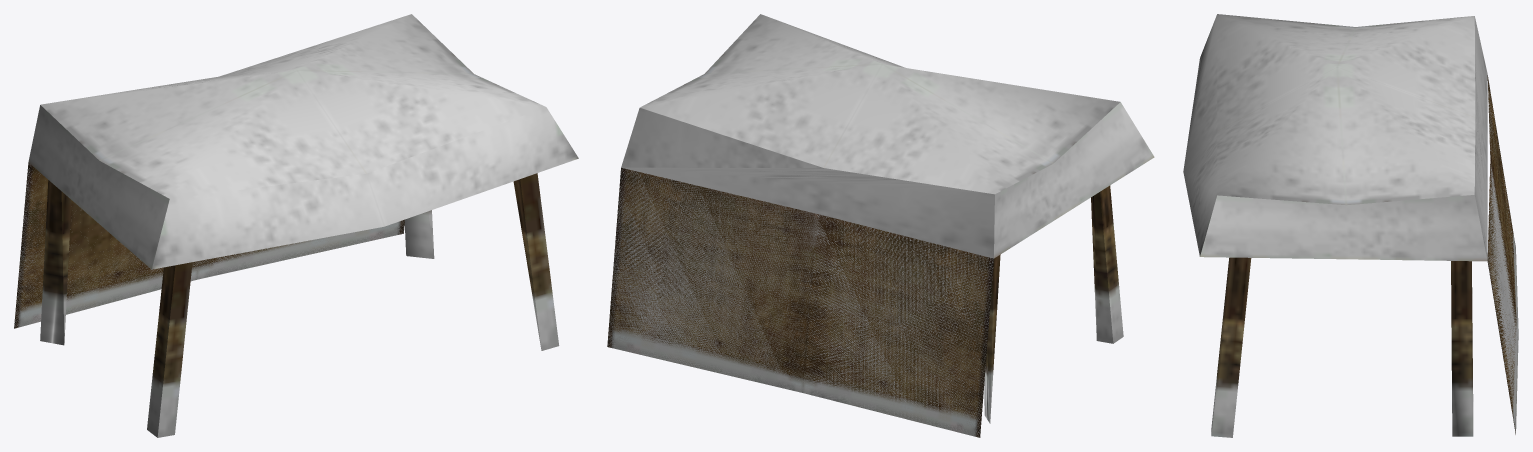
File: nsm-general_obj_06_lod_01.fbx
The picture shows the model from 3 angles, left to right: view 1: azimuth 30°, elevation 25°; view 2: azimuth 150°, elevation 25°; view 3: azimuth 270°, elevation 25°; orthographic projection. The views are drawn at different scales.
Parts seen in each view (by area): view 1: Object02; view 2: Object02; view 3: Object02.
Part boxes in pixels (x1,y1,x2,y2): Object02: (14, 14, 578, 437); Object02: (607, 14, 1154, 437); Object02: (1183, 14, 1518, 437).
Size of the model in its own units: 5.57 by 3.49 by 3.84.
